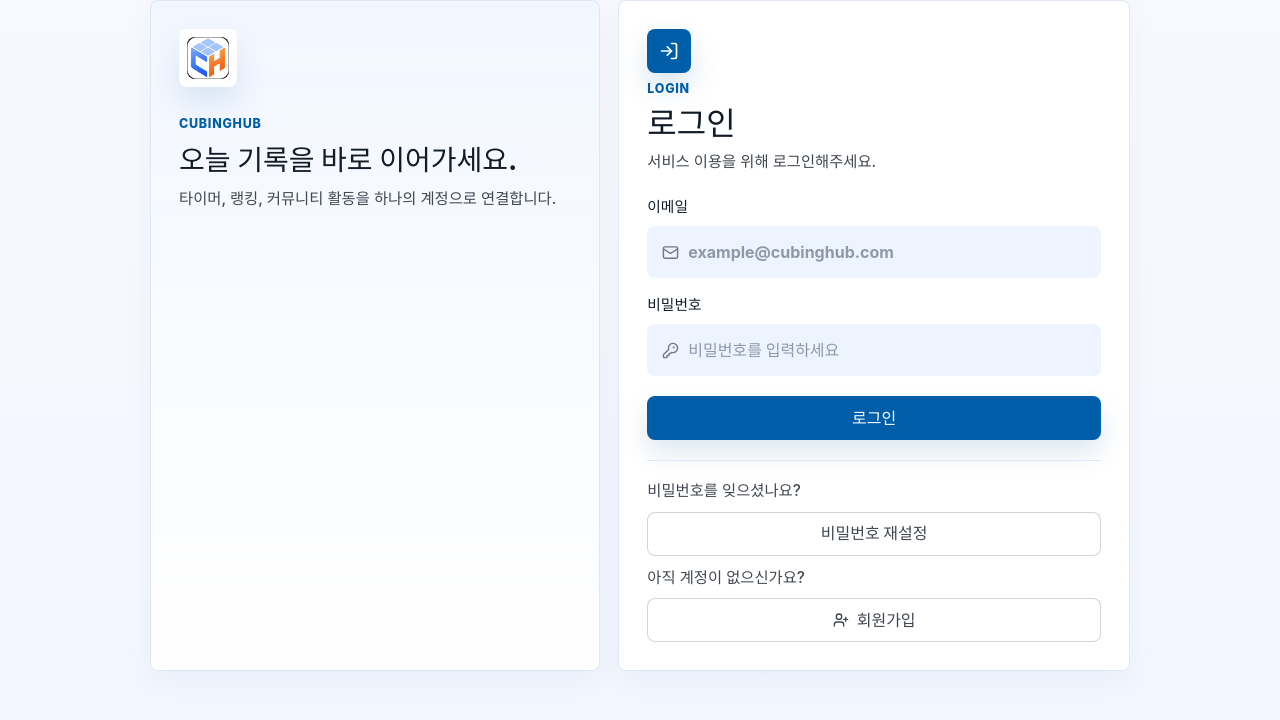
LoginPage › should_show_retry_message_when_network_error_is_recovered_by_refresh_cookie_cleanup
This screenshot has width=1280, height=720.
Type "member@cubinghub.com" into the field labelled "이메일" at {"x": 887, "y": 252}, box [688,240,1086,264]
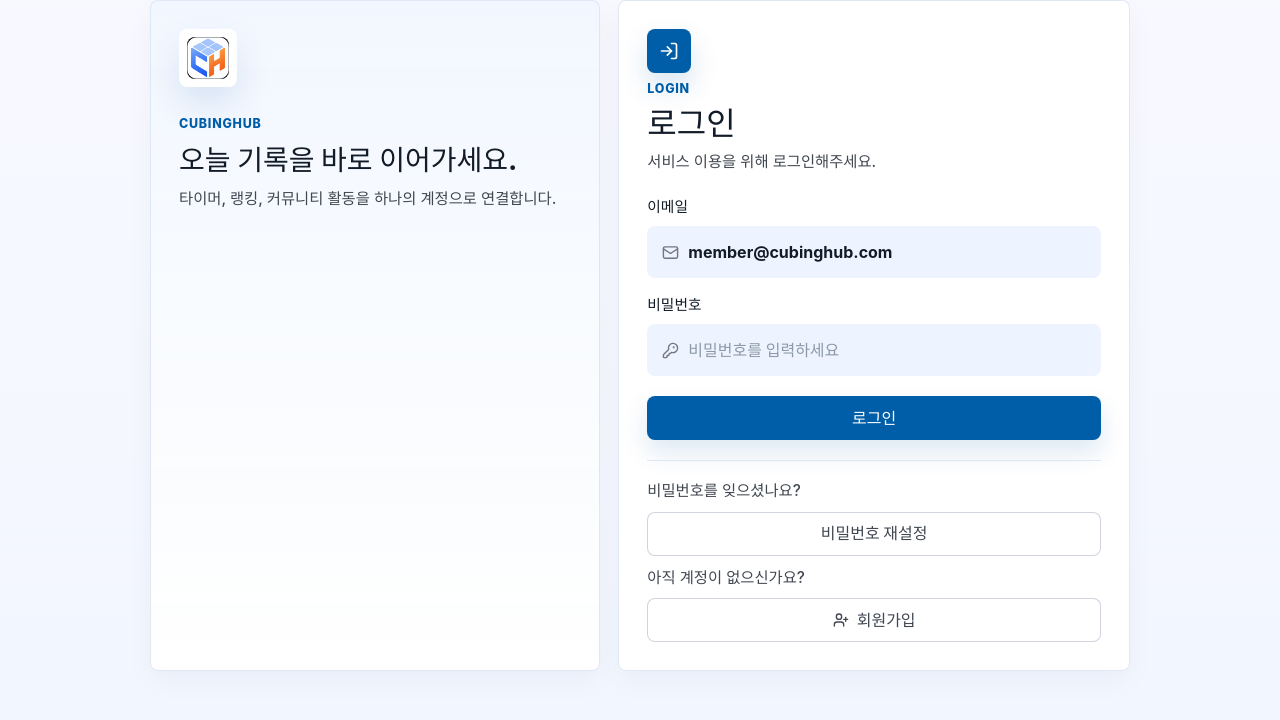
Type "password123!" into the password field labelled "비밀번호" at {"x": 887, "y": 350}, box [688,338,1086,362]
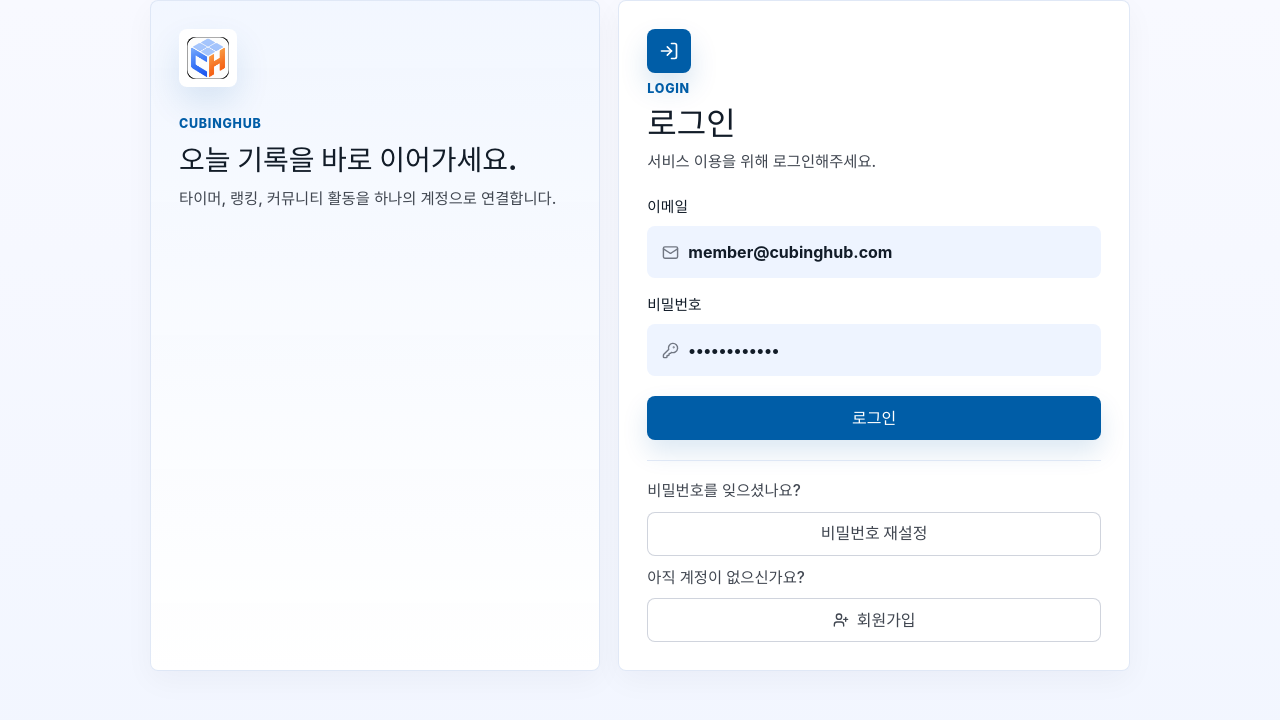
Click the button "로그인" at {"x": 874, "y": 418}, box [647,396,1101,440]
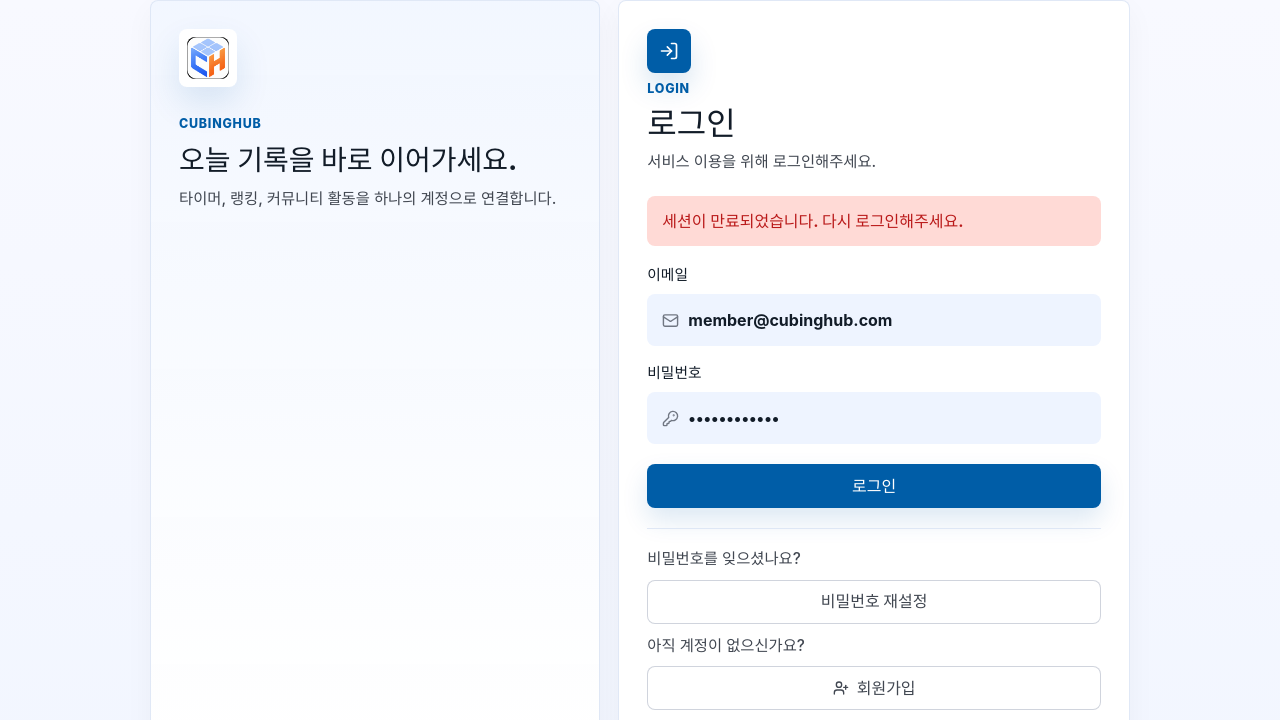
Expected: the text "세션이 만료되었습니다. 다시 로그인해주세요." is shown, [647,196,1101,246]
